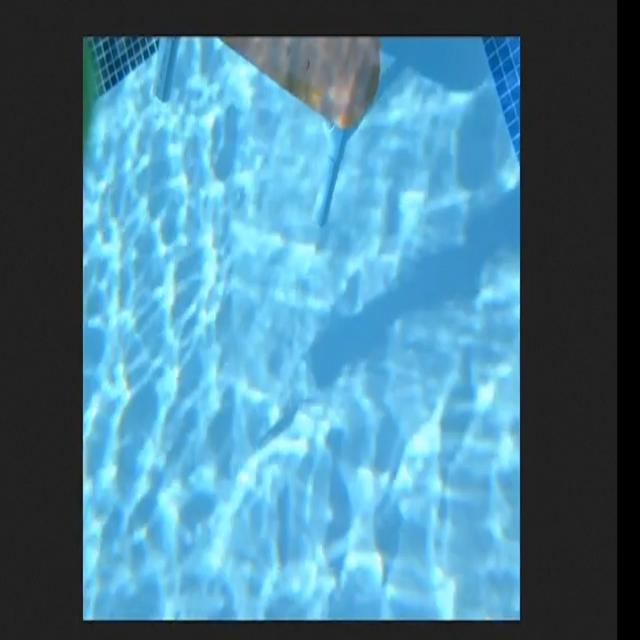Path: (216, 36, 389, 143)
